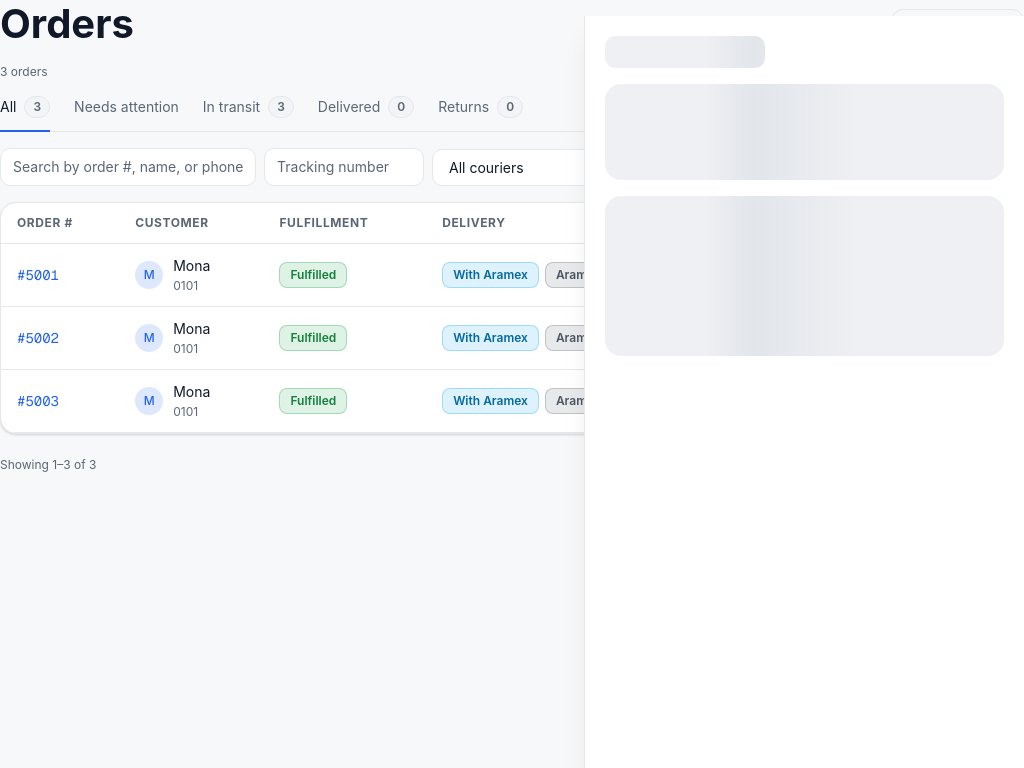
Orders › With <carrier> + Mark delivered › a failed mark keeps the dialog open with an error, nothing reported as done
The width and height of the screenshot is (1024, 768).
Select "With Aramex (2)" in the dropdown with test id "orders-carrier-filter": [544, 167] box [432,148,656,186]
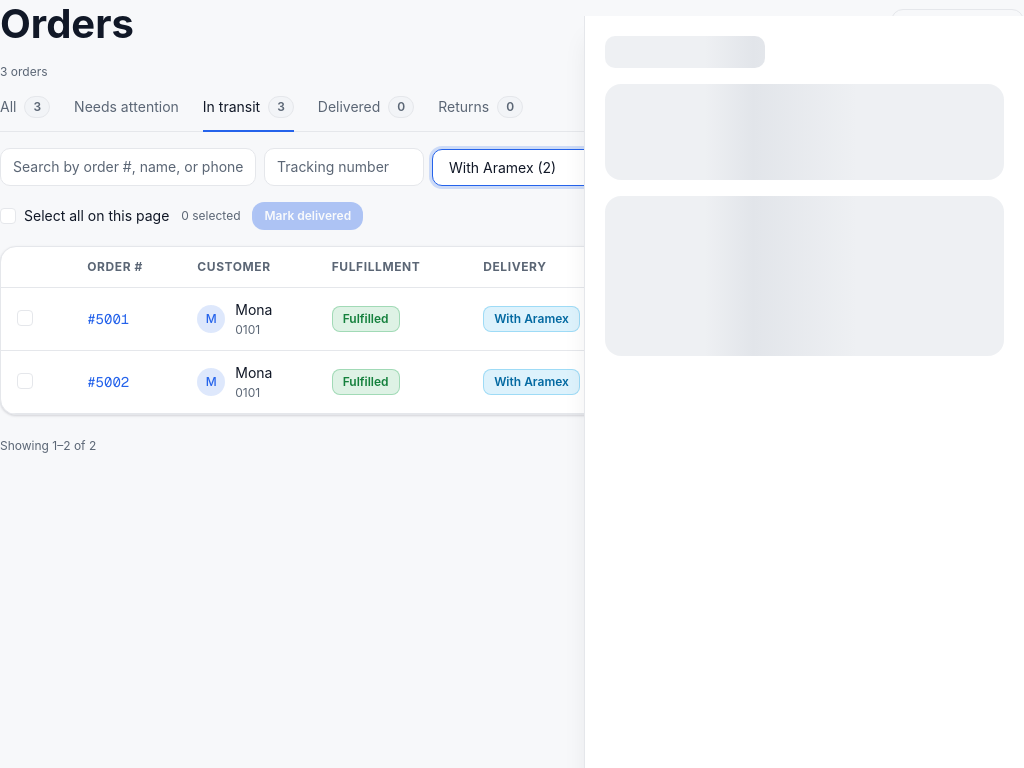
Click the 2nd checkbox: [29, 316] box [17,308,41,326]
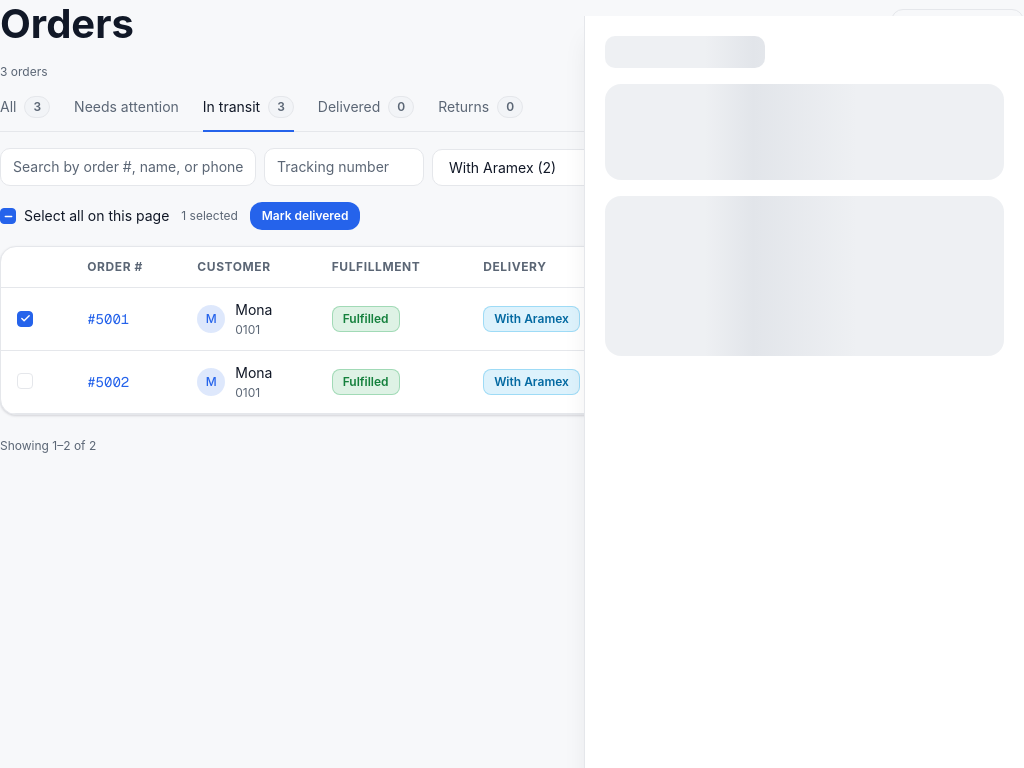
Click the button "Mark delivered": [305, 216] box [250,202,360,230]
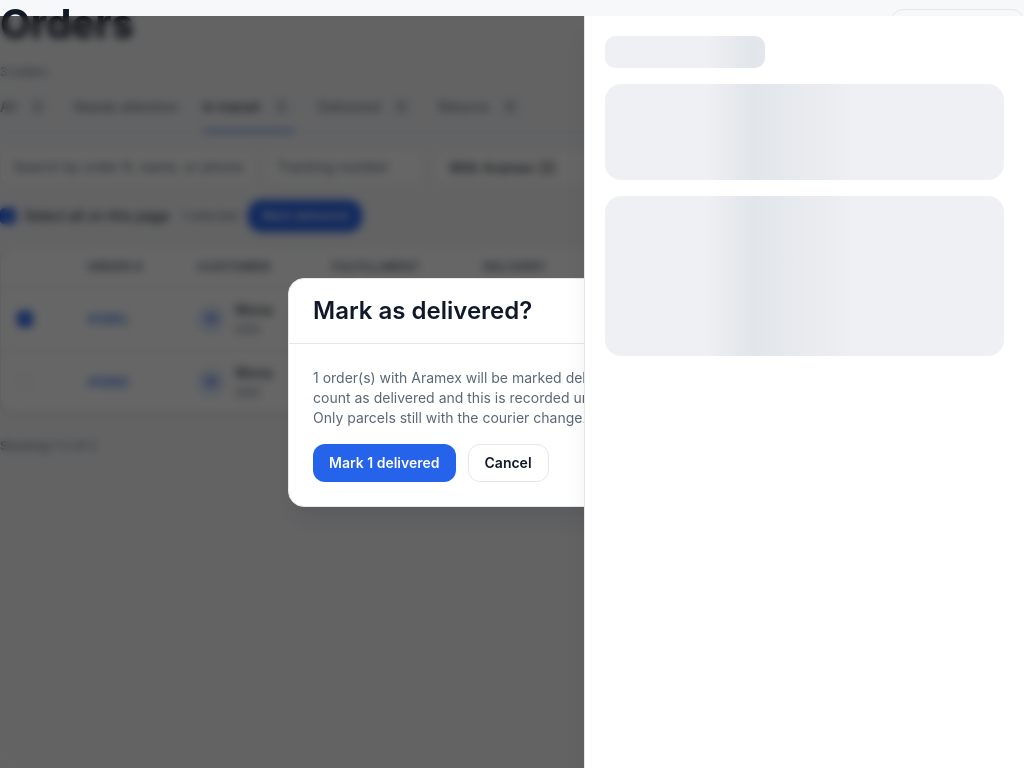
Click the button "Mark 1 delivered": [384, 462] box [313,444,456,482]
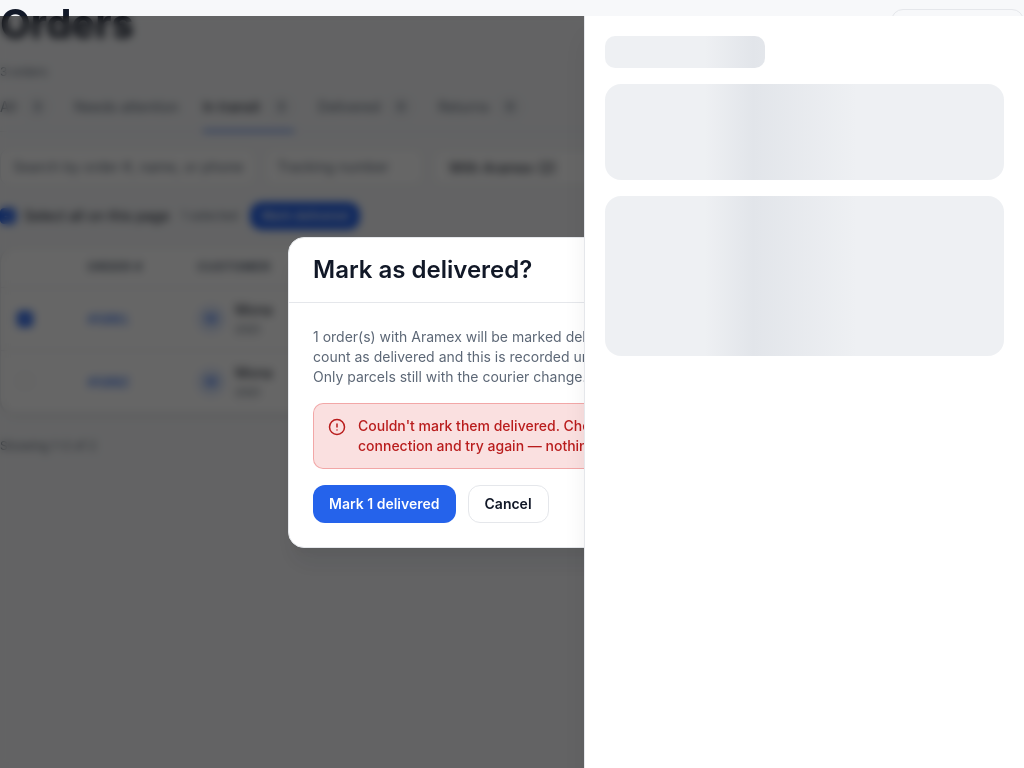
Expected: the text "Couldn't mark them delivered" is shown, [358,416,663,454]
